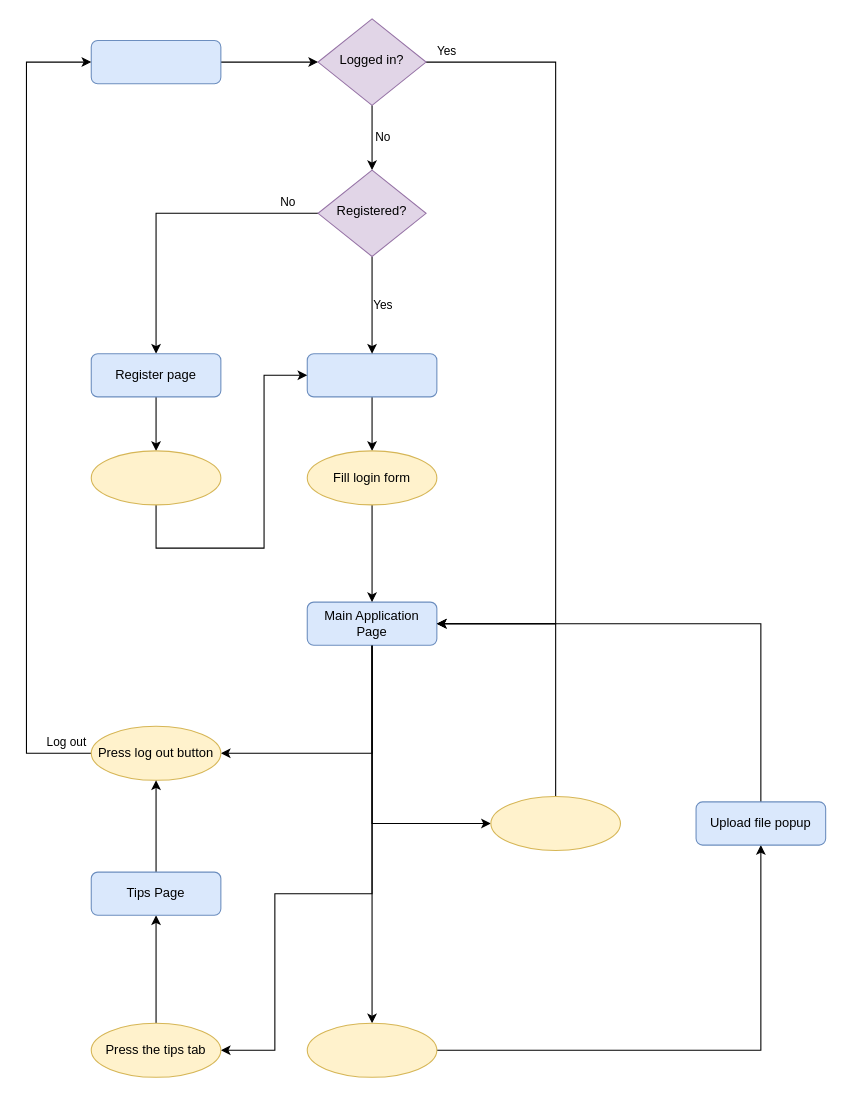
Some shapes in this 845 by 1096 pixel diagram are drawn without their labels. The shapes that lost their labels are listed below. From the top down, each one's centre as x and y in pixels, then its label:
pixel 155 61: Landing page
pixel 371 375: Login page
pixel 155 477: Fill registration form
pixel 555 822: Paste a valid config
pixel 371 1049: Press the upload button
